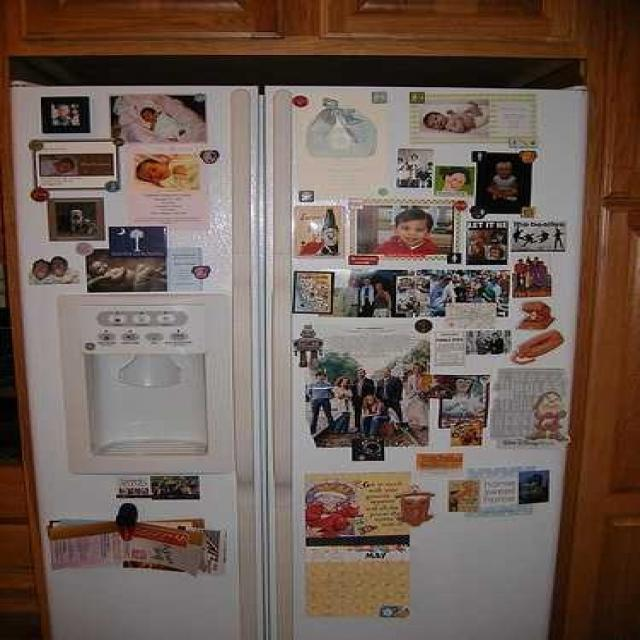refrigerator: (9, 83, 592, 640)
